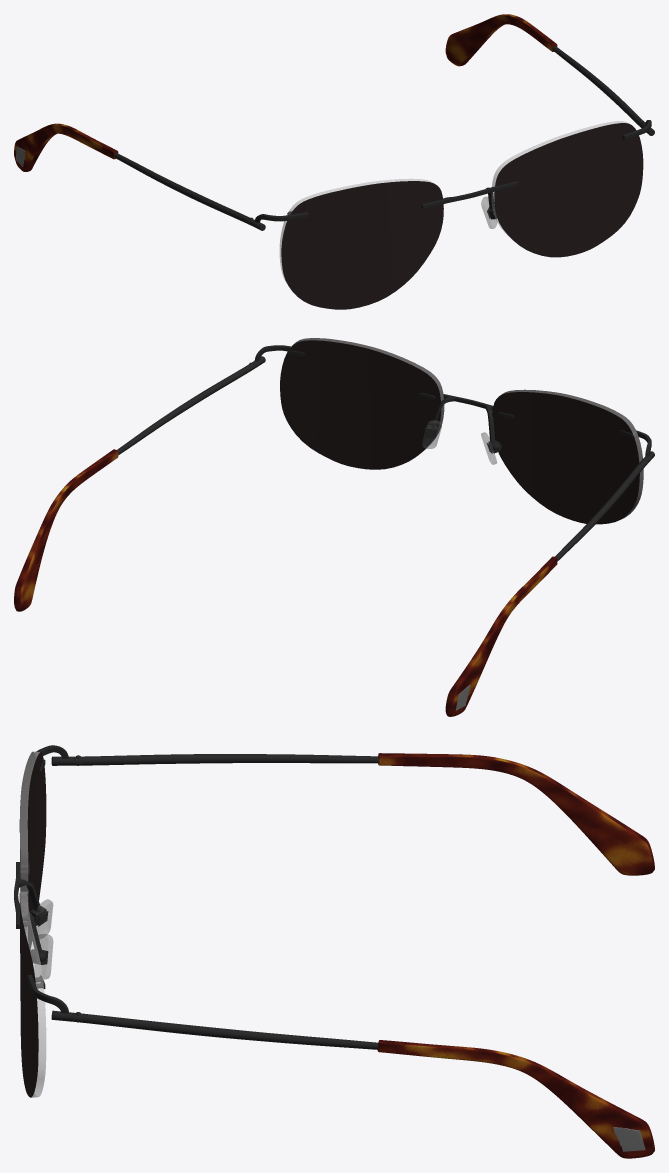
3 renders of one model, top to bottom at view 1: azimuth 30°, elevation 25°; view 2: azimuth 150°, elevation 25°; view 3: azimuth 270°, elevation 25°, orthographic. The views are drawn at different scales.
Visible parts, largest first — view 1: Mesh__Glasses1_0, Mesh__T1_0, Mesh__Base1_0, Mesh__Glasses_Side1_0; view 2: Mesh__Glasses1_0, Mesh__T1_0, Mesh__Base1_0, Mesh__Glasses_Side1_0, Mesh__nose1_0; view 3: Mesh__T1_0, Mesh__Base1_0, Mesh__Glasses1_0, Mesh__Glasses_Side1_0, Mesh__nose1_0.
Part boxes in pixels (x1,y1,x2,y2): Mesh__Glasses1_0: (281,123,643,309); Mesh__T1_0: (14,14,557,171); Mesh__Base1_0: (114,46,654,230); Mesh__Glasses_Side1_0: (279,121,628,289); Mesh__Glasses1_0: (280,338,643,524); Mesh__T1_0: (14,449,557,716); Mesh__Base1_0: (117,345,654,561); Mesh__Glasses_Side1_0: (290,338,643,518); Mesh__nose1_0: (422,420,496,464); Mesh__T1_0: (377,753,654,1158); Mesh__Base1_0: (14,745,379,1049); Mesh__Glasses1_0: (19,752,46,1097); Mesh__Glasses_Side1_0: (20,751,46,1097); Mesh__nose1_0: (34,899,53,979).
Bounding box in the file's own units: 1.56 × 0.4065 × 1.43.
Materials: 6 (1 with a texture image).
